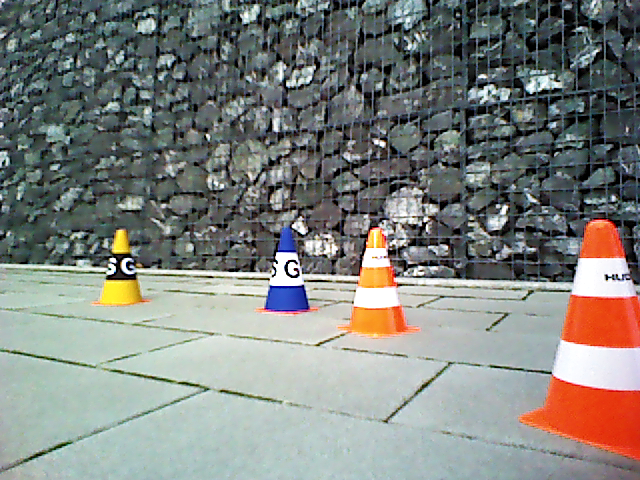bluecone: (264, 226, 312, 311)
orangeconesmall: (545, 219, 640, 444), (353, 228, 407, 332)
yellowcone: (101, 228, 142, 304)
